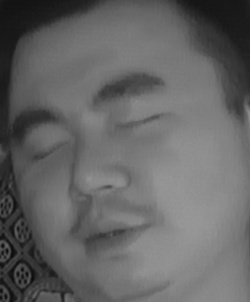blink: (114, 104, 167, 136), (28, 133, 69, 164)
mouth: (70, 204, 155, 266)
